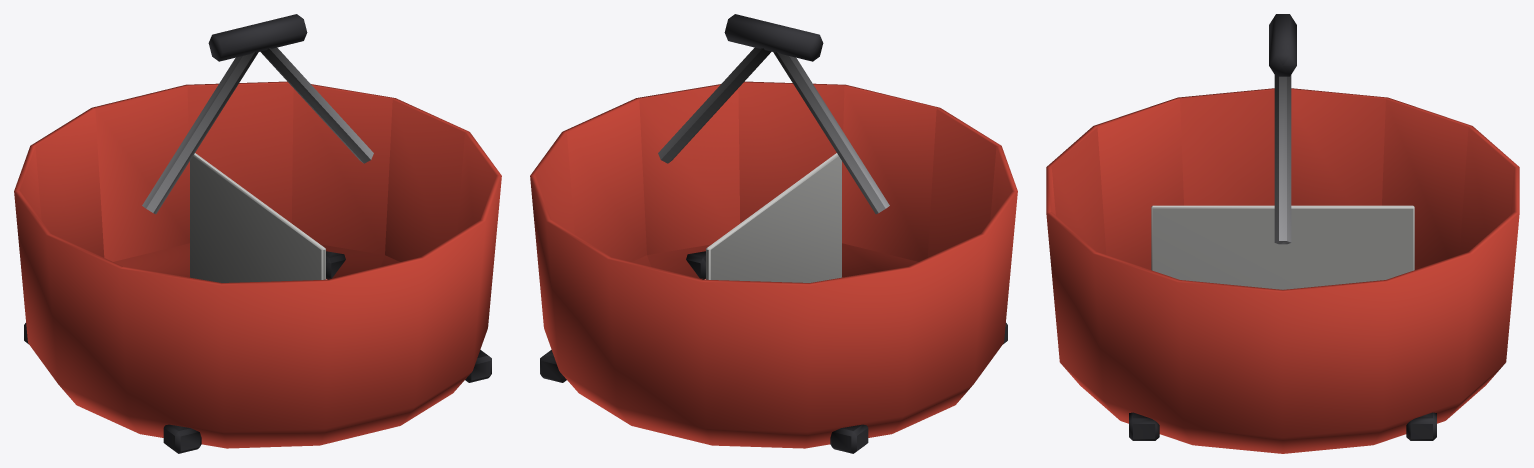
Rendered from caddy.glb.
3 renders of one model, left to right at view 1: azimuth 30°, elevation 25°; view 2: azimuth 150°, elevation 25°; view 3: azimuth 270°, elevation 25°, orthographic.
Visible parts, largest first — view 1: body, divider, bail_l, bail_grip, bail_r, foot_-1_-1, foot_1_-1; view 2: body, divider, bail_l, bail_grip, bail_r, foot_-1_1, foot_1_1; view 3: body, divider, bail_r, bail_grip, foot_1_-1, foot_1_1.
Boxes of the visible parts, x1=… form: body: x1=14, y1=81, x2=501, y2=448; divider: x1=190, y1=153, x2=325, y2=282; bail_l: x1=142, y1=51, x2=258, y2=214; bail_grip: x1=208, y1=14, x2=307, y2=61; bail_r: x1=260, y1=47, x2=373, y2=163; foot_-1_-1: x1=163, y1=424, x2=201, y2=453; foot_1_-1: x1=465, y1=350, x2=491, y2=382; body: x1=530, y1=81, x2=1017, y2=448; divider: x1=706, y1=153, x2=841, y2=282; bail_l: x1=773, y1=51, x2=889, y2=214; bail_grip: x1=724, y1=14, x2=823, y2=61; bail_r: x1=658, y1=47, x2=771, y2=163; foot_-1_1: x1=830, y1=424, x2=868, y2=453; foot_1_1: x1=540, y1=350, x2=566, y2=382; body: x1=1046, y1=88, x2=1519, y2=453; divider: x1=1151, y1=205, x2=1414, y2=289; bail_r: x1=1274, y1=75, x2=1291, y2=244; bail_grip: x1=1269, y1=14, x2=1296, y2=76; foot_1_-1: x1=1129, y1=412, x2=1159, y2=440; foot_1_1: x1=1406, y1=412, x2=1436, y2=440.
Bounding box in the file's own units: 0.35 × 0.2637 × 0.3412.
